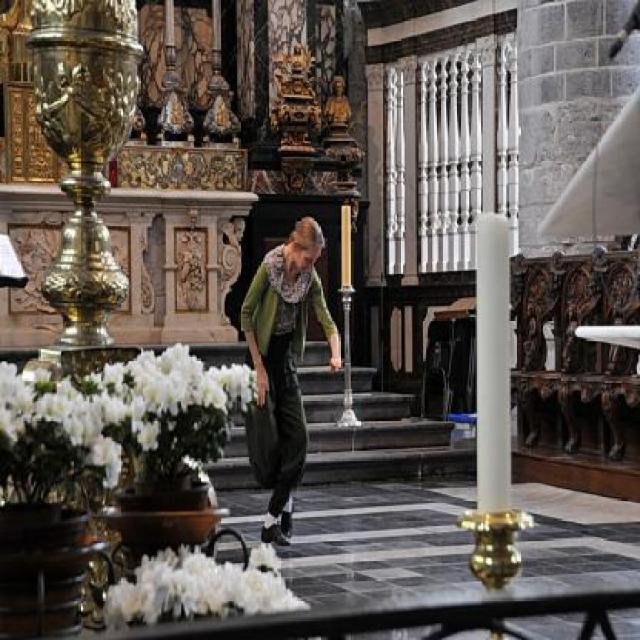Person: (239, 208, 335, 546)
